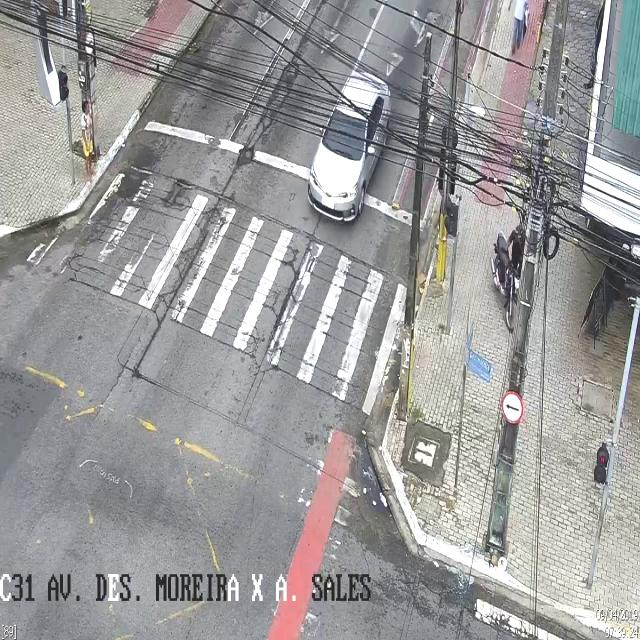Car: (308, 70, 391, 220)
Motorcycle: (489, 222, 526, 328)
